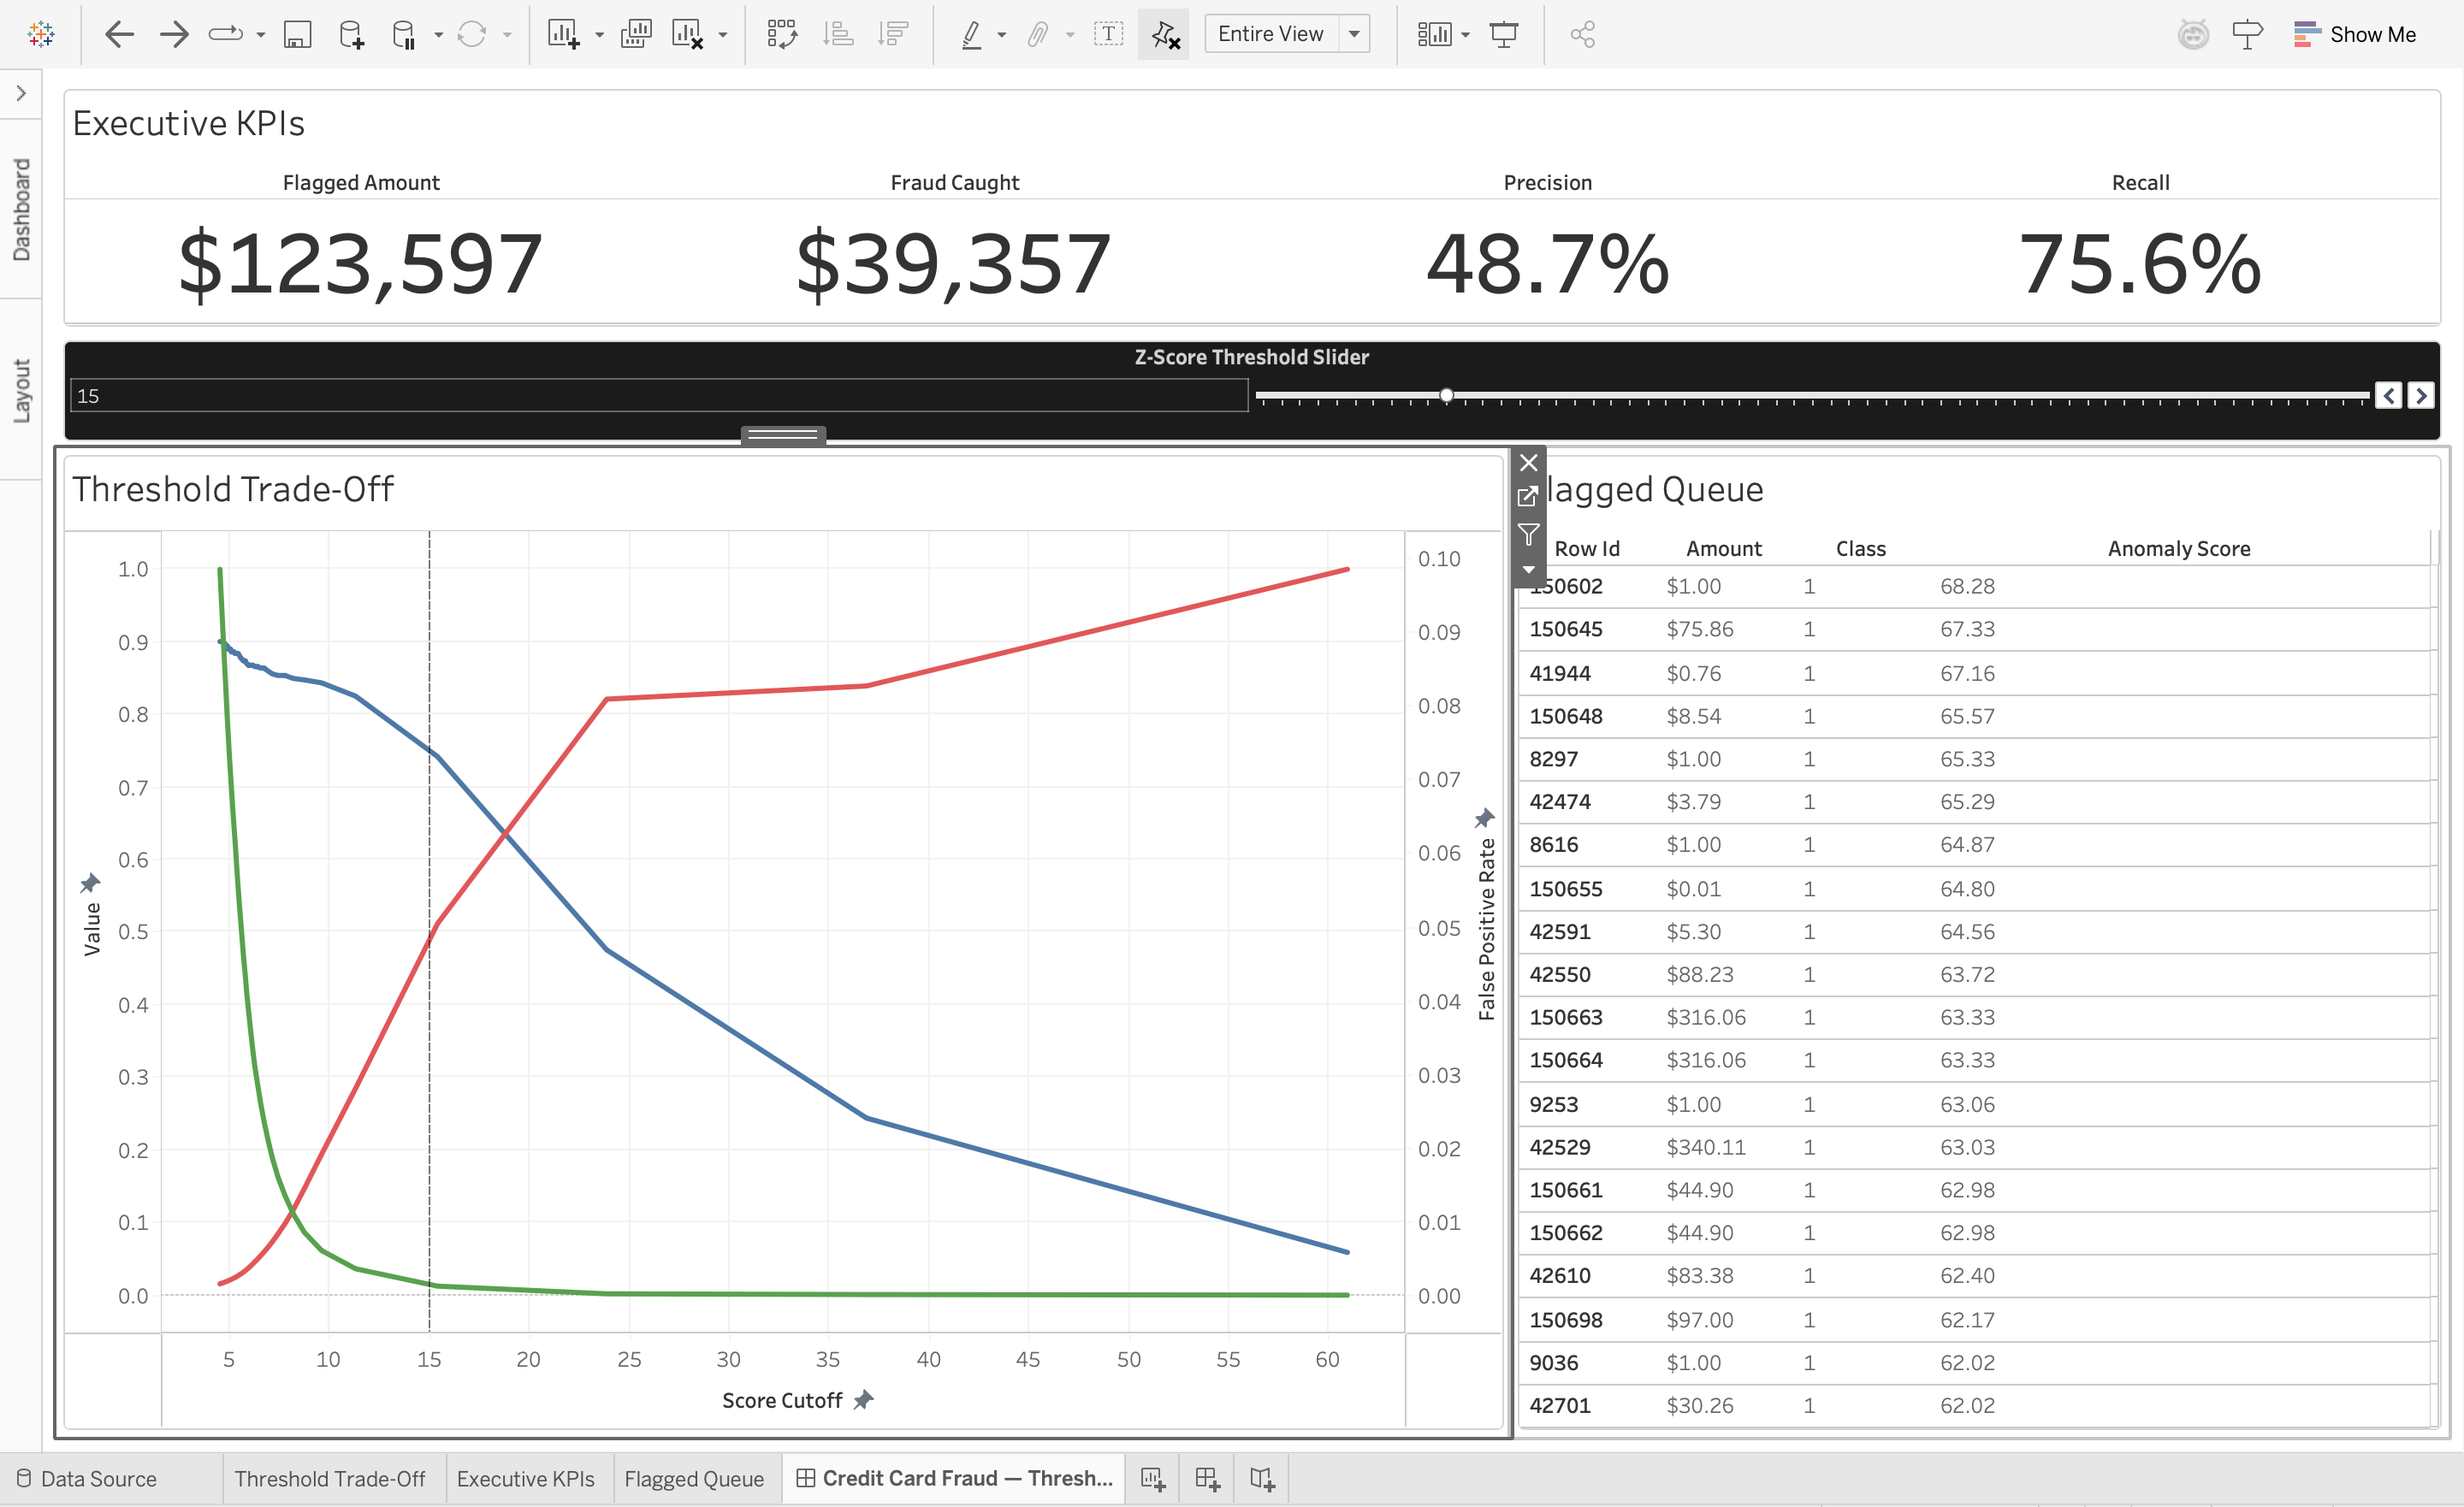

What the dashboard file says about the page in this screenshot:
{"tool":"tableau","page":{"name":"Credit Card Fraud — Threshold Analysis","canvas":[1000,1000],"units":"permille","ordinal":0},"visuals":[{"type":"worksheet","title":"Executive KPIs","mark":"Automatic","box":[5.7,9.9,988.7,181.9]},{"type":"parameter","param":"[Parameters].[Parameter 0113702459867136]","box":[5.7,191.8,988.7,82.9]},{"type":"worksheet","title":"Threshold Trade-Off","mark":"Automatic","rows":["false_positive_rate"],"cols":["score_cutoff"],"box":[5.7,274.7,601.4,715.4]},{"type":"worksheet","title":"Flagged Queue","mark":"Polygon","rows":["row_id","amount","class","anomaly_score"],"box":[607.1,274.7,387.3,715.4]}]}

Visuals, with their boxes on the dashboard's canvas, which has no fixed pixel size, in thousandths of its width and height (x1, y1, x2, y2). These are canvas units, not pixel positions in the 2464x1507 screenshot, which may show the page scaled, cropped or inside an application window:
"Executive KPIs" worksheet: (6, 10, 994, 192)
parameter: (6, 192, 994, 275)
"Threshold Trade-Off" worksheet: (6, 275, 607, 990)
"Flagged Queue" worksheet (Polygon marks): (607, 275, 994, 990)
